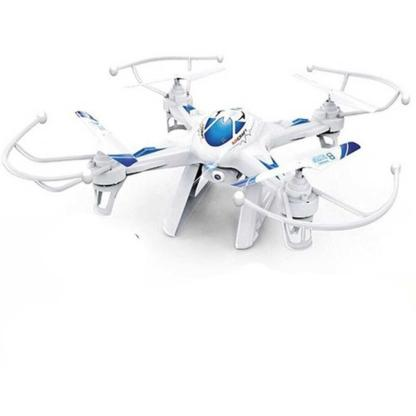drone: (11, 43, 416, 261)
